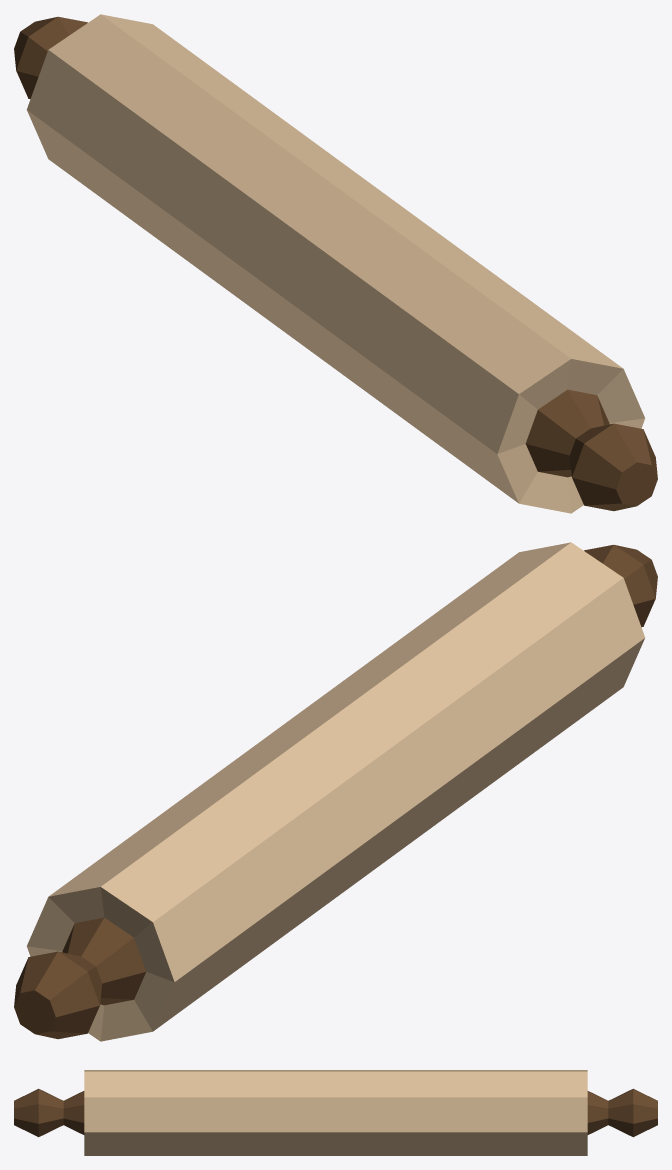
File: egypt-papyrus-rolled.glb
3 renders of one model, top to bottom at view 1: azimuth 30°, elevation 25°; view 2: azimuth 150°, elevation 25°; view 3: azimuth 270°, elevation 25°, orthographic. The views are drawn at different scales.
Visible parts, largest first — view 1: egypt-papyrus-rolled; view 2: egypt-papyrus-rolled; view 3: egypt-papyrus-rolled.
Part boxes in pixels (x1=…): egypt-papyrus-rolled: x1=14, y1=14, x2=657, y2=513; egypt-papyrus-rolled: x1=14, y1=542, x2=657, y2=1041; egypt-papyrus-rolled: x1=14, y1=1070, x2=657, y2=1155.
Size of the model in its own units: 0.1079 by 0.1079 by 0.7605.
Materials: 1 (1 with a texture image).
